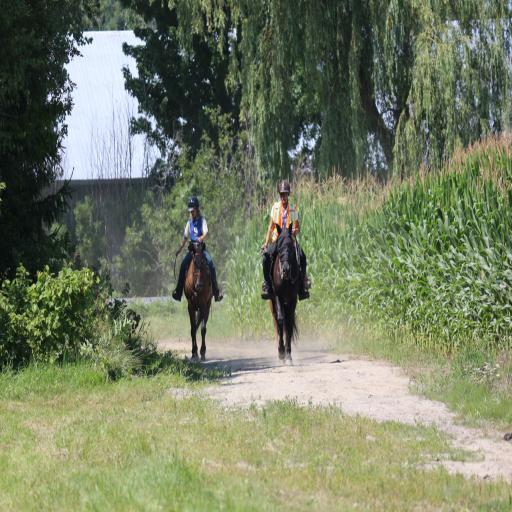horse: (268, 221, 302, 366), (184, 244, 212, 364)
